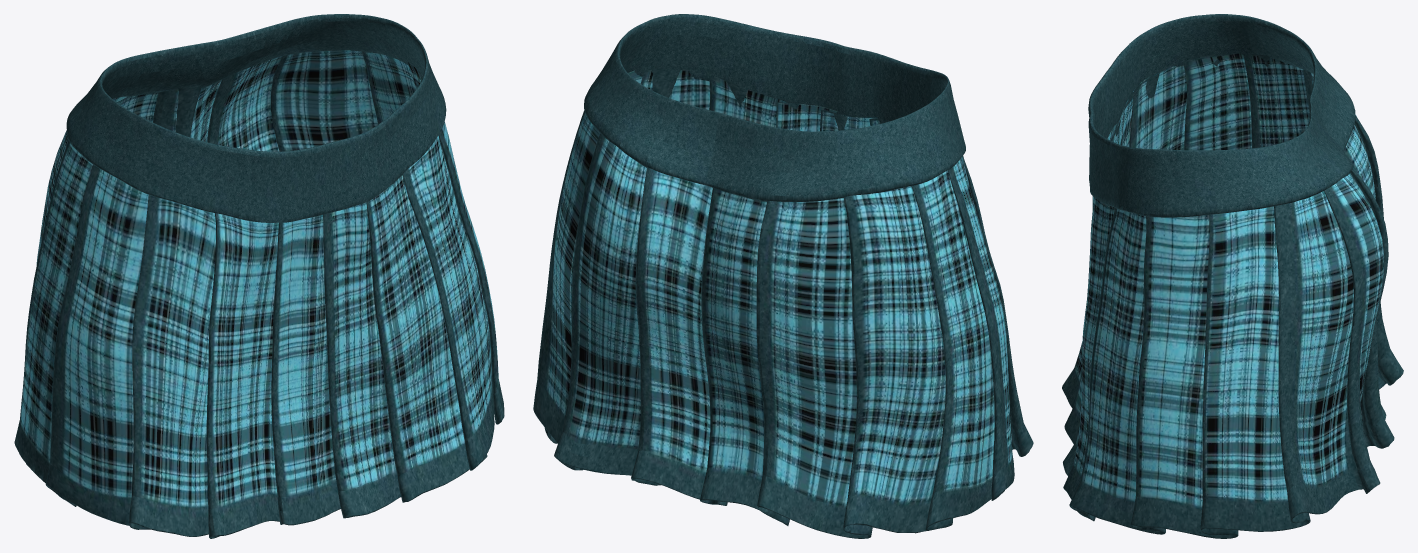
Rendered from elvs-pleated-plaid-mini-skirt.glb.
3 renders of one model, left to right at view 1: azimuth 30°, elevation 25°; view 2: azimuth 150°, elevation 25°; view 3: azimuth 270°, elevation 25°, orthographic. The views are drawn at different scales.
Parts seen in each view (by area): view 1: pleated plaid mini skirt; view 2: pleated plaid mini skirt; view 3: pleated plaid mini skirt.
Part boxes in pixels (x1,y1,x2,y2): pleated plaid mini skirt: (14, 14, 504, 538); pleated plaid mini skirt: (533, 14, 1033, 538); pleated plaid mini skirt: (1062, 14, 1403, 538).
Size of the model in its own units: 41.22 by 36.27 by 29.39.
1 material, 1 textured.
